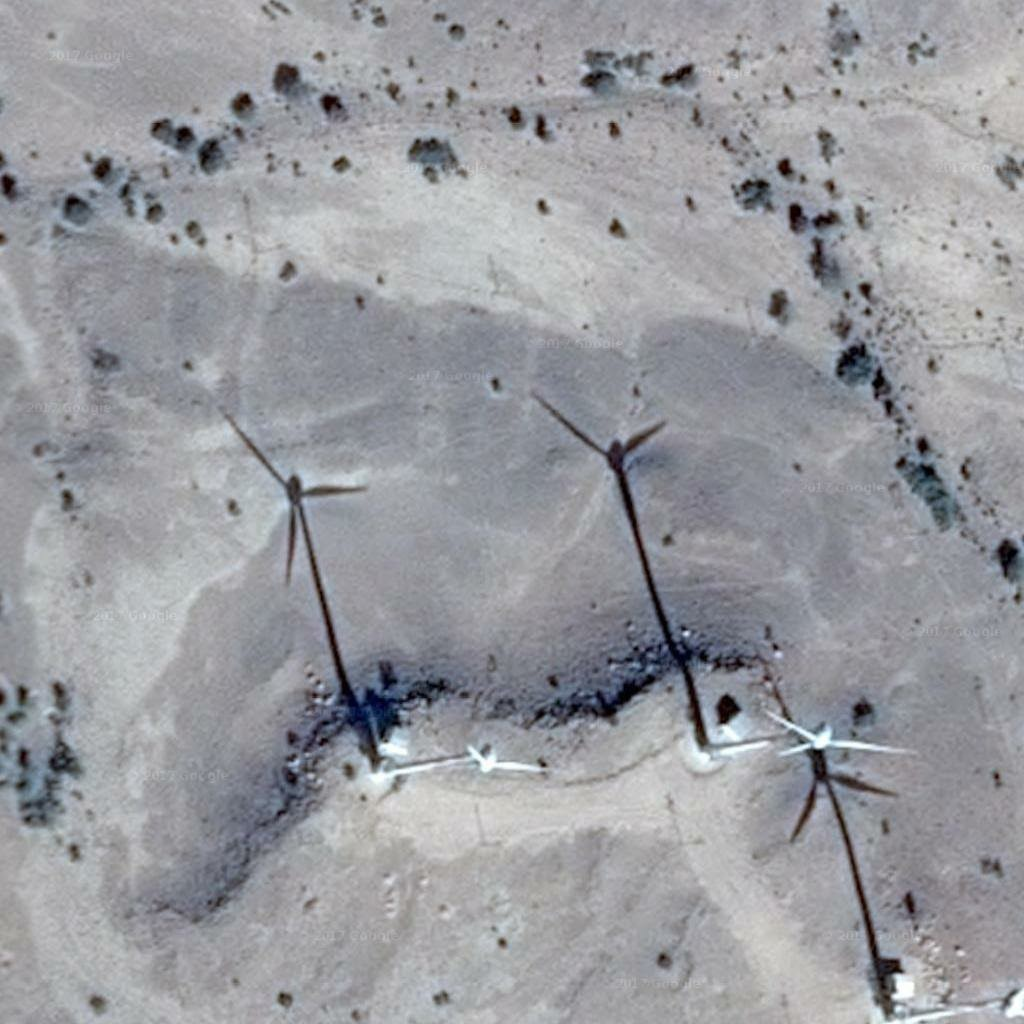Windmill: (223, 414, 369, 683)
